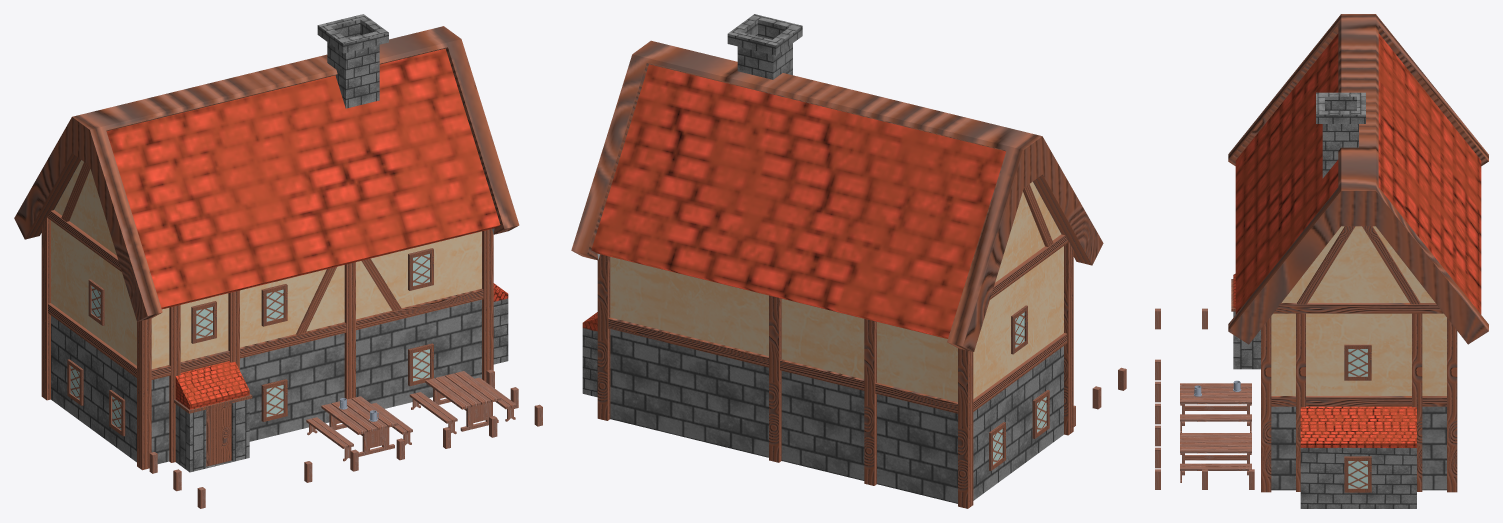
Rendered from low-poly_outsource_tavern.glb.
The picture shows the model from 3 angles, left to right: view 1: azimuth 30°, elevation 25°; view 2: azimuth 150°, elevation 25°; view 3: azimuth 270°, elevation 25°; orthographic projection. The views are drawn at different scales.
Parts seen in each view (by area): view 1: M_HouseBody, M_Table_1, M_Table_2, M_Fenceposts; view 2: M_HouseBody; view 3: M_HouseBody, M_Table_1, M_Table_2, M_Fenceposts.
Boxes of the visible parts, left/top/right/bottom form: M_HouseBody: left=14, top=14, right=519, bottom=472; M_Table_1: left=409, top=371, right=516, bottom=434; M_Table_2: left=306, top=396, right=412, bottom=461; M_Fenceposts: left=149, top=369, right=542, bottom=508; M_HouseBody: left=571, top=14, right=1103, bottom=508; M_HouseBody: left=1228, top=14, right=1488, bottom=508; M_Table_1: left=1180, top=433, right=1251, bottom=482; M_Table_2: left=1180, top=383, right=1251, bottom=432; M_Fenceposts: left=1155, top=308, right=1254, bottom=489.
Size of the model in its own units: 16.9 by 14.12 by 12.51.
Materials: 2 (2 with a texture image).
